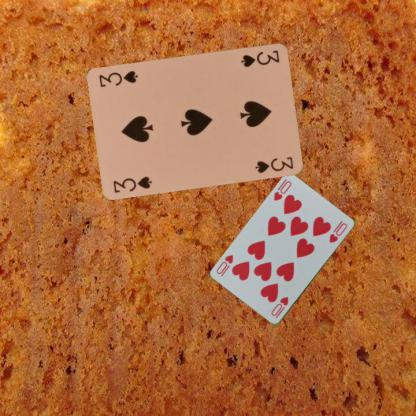10h: (269, 294, 290, 320), (271, 179, 293, 202)
3s: (111, 173, 154, 194), (238, 47, 280, 68)
